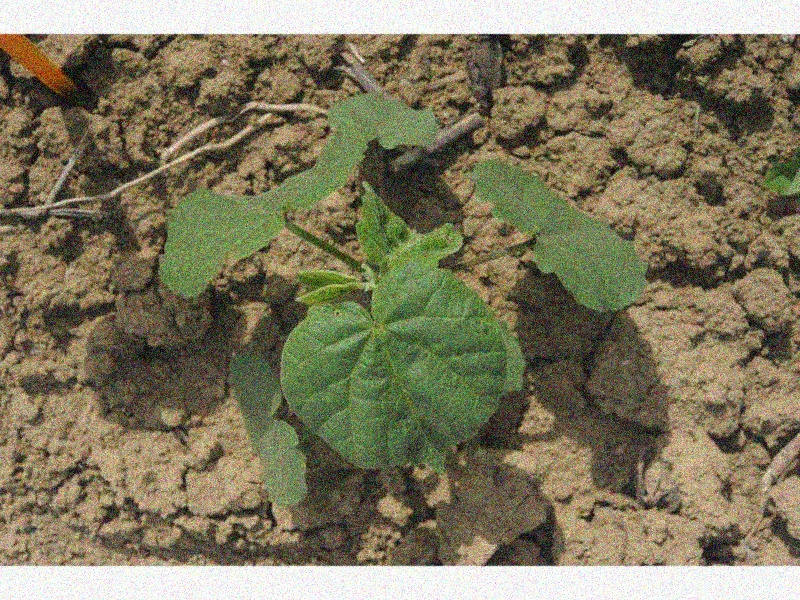velvet: (157, 90, 648, 508)
